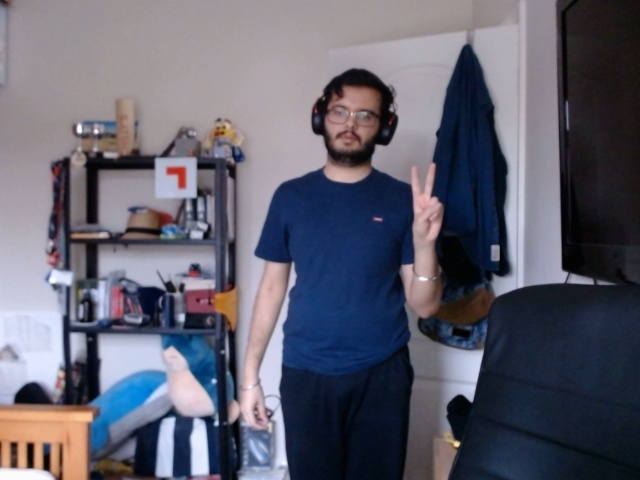Peace: (405, 154, 450, 256)
